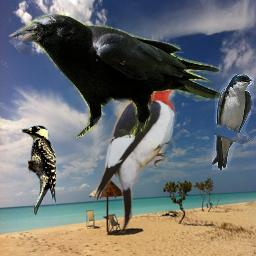Crow: (8, 14, 222, 138)
Swallow: (212, 74, 254, 170)
Woodpecker: (93, 75, 190, 233), (20, 125, 58, 216)
